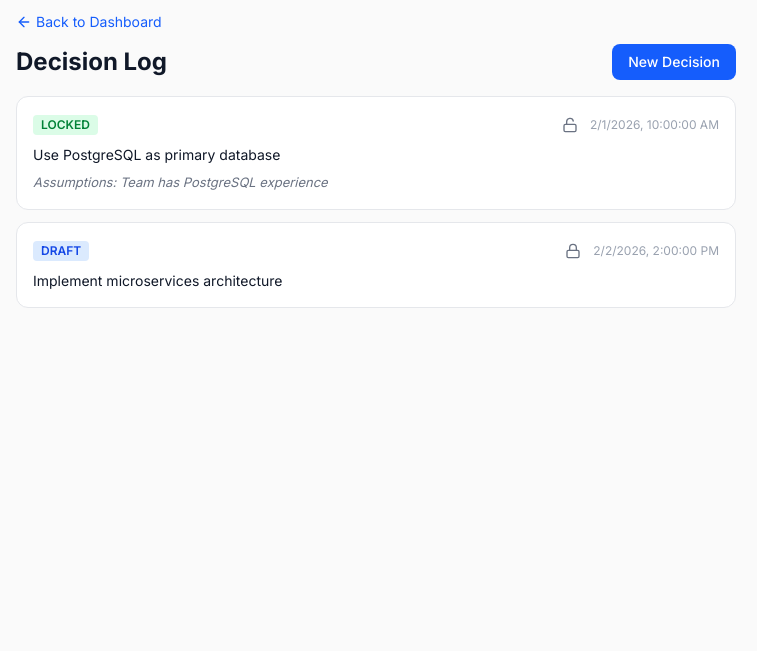
it: DecisionsPage › toggles new decision form on button click
Click the button "New Decision": (674, 62) 612,44 -> 736,80
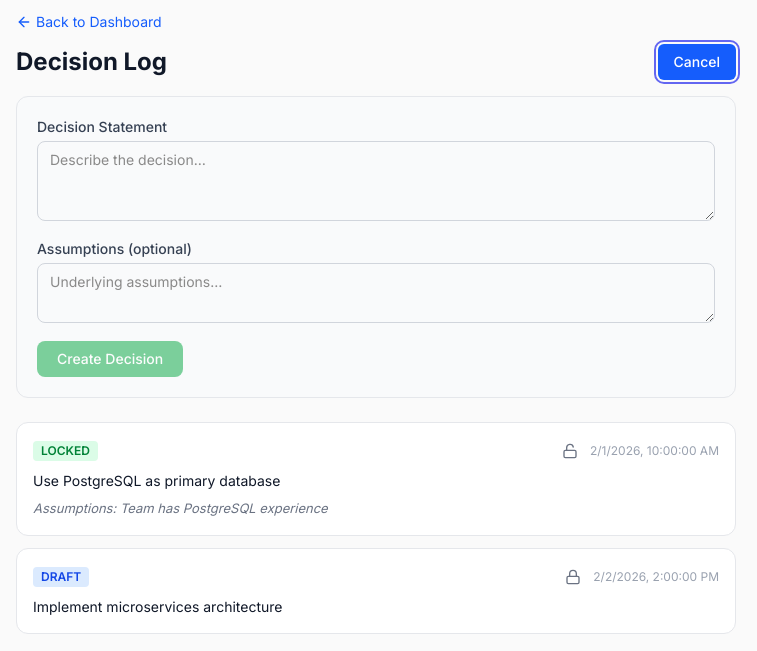
Expected: the text box with placeholder "Describe the decision…" is shown, 37,141 -> 715,221
Expected: the button "Cancel" is shown, 658,44 -> 736,80
